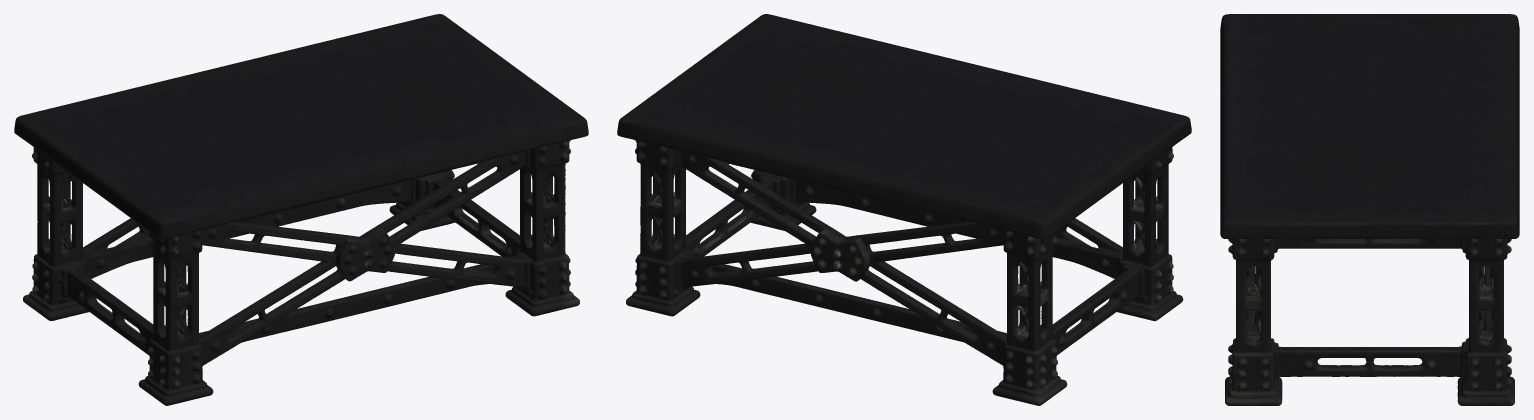
File: table1.glb
The picture shows the model from 3 angles, left to right: view 1: azimuth 30°, elevation 25°; view 2: azimuth 150°, elevation 25°; view 3: azimuth 270°, elevation 25°; orthographic projection.
Size of the model in its own units: 1.9 by 0.7887 by 1.14.
1 material, 1 textured.
